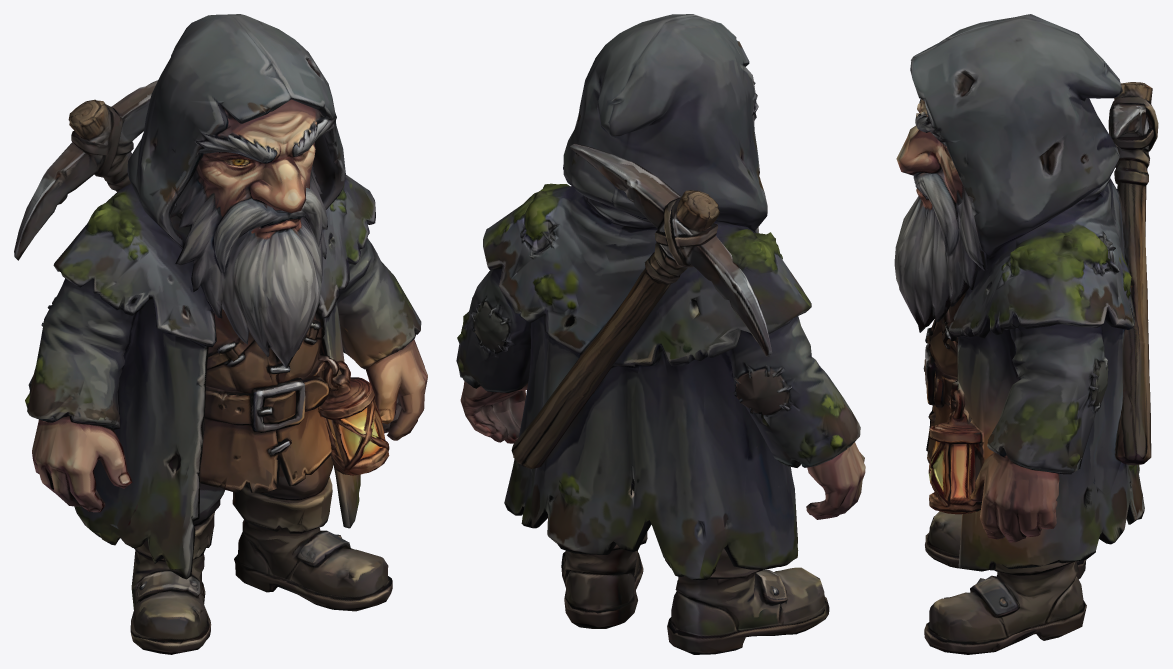
Rendered from grey-man.glb.
The picture shows the model from 3 angles, left to right: view 1: azimuth 30°, elevation 25°; view 2: azimuth 150°, elevation 25°; view 3: azimuth 270°, elevation 25°; orthographic projection. The views are drawn at different scales.
Size of the model in its own units: 0.6743 by 0.9793 by 0.4015.
Materials: 1 (1 with a texture image).
